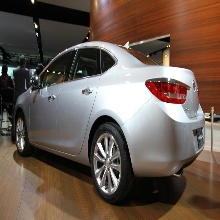no damage: (12, 41, 206, 204)
